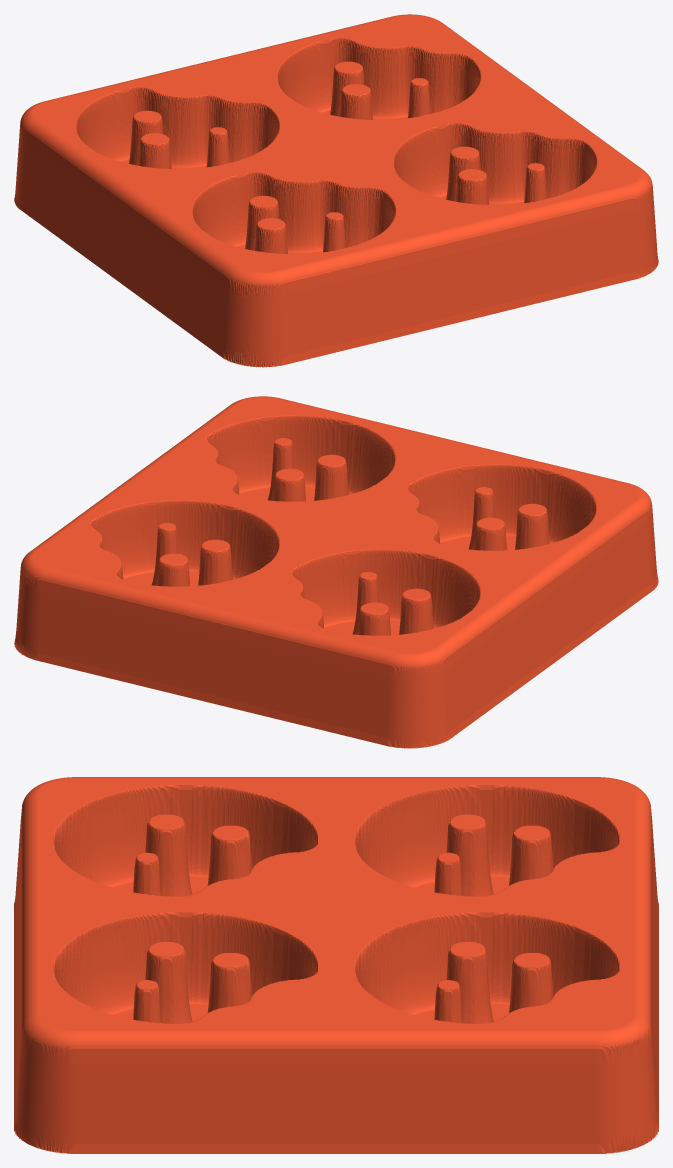
Rendered from mold.glb.
The picture shows the model from 3 angles, top to bottom: view 1: azimuth 30°, elevation 25°; view 2: azimuth 150°, elevation 25°; view 3: azimuth 270°, elevation 25°; orthographic projection. The views are drawn at different scales.
Visible parts, largest first — view 1: geometry_0; view 2: geometry_0; view 3: geometry_0.
Boxes of the visible parts, box(x1,y1,x2,y2) form: geometry_0: box(14, 14, 658, 367); geometry_0: box(14, 396, 658, 748); geometry_0: box(14, 777, 658, 1153).
Size of the model in its own units: 0.0942 by 0.0182 by 0.0942.
